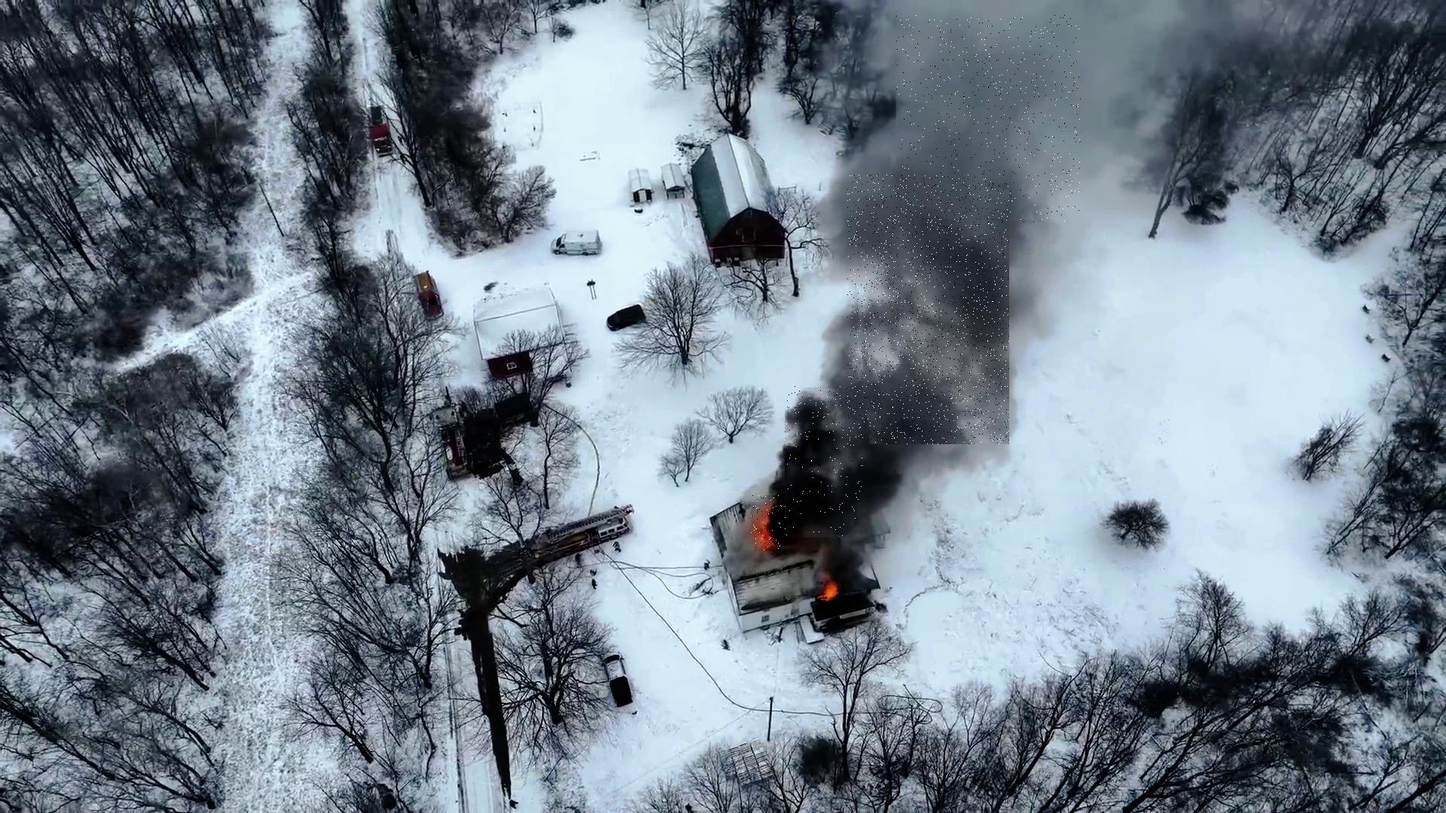fire: (752, 495, 782, 551)
smoke: (847, 174, 1009, 444), (897, 15, 1081, 222), (785, 386, 864, 538)
